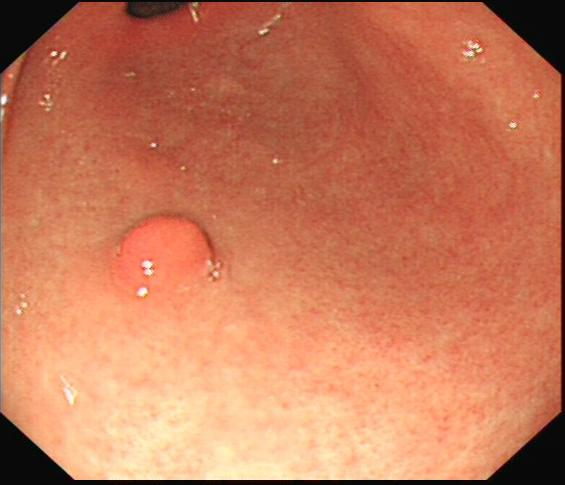Polyp: (103, 209, 220, 290)
